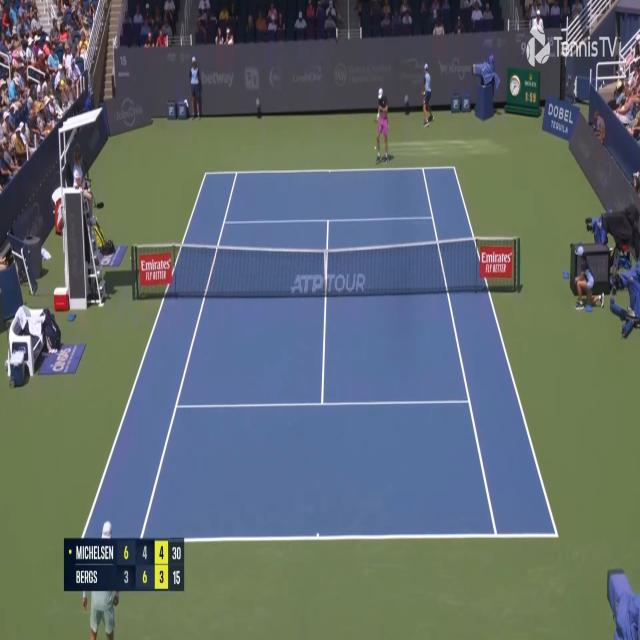tennis-player: (81, 516, 121, 640), (372, 86, 391, 164)
